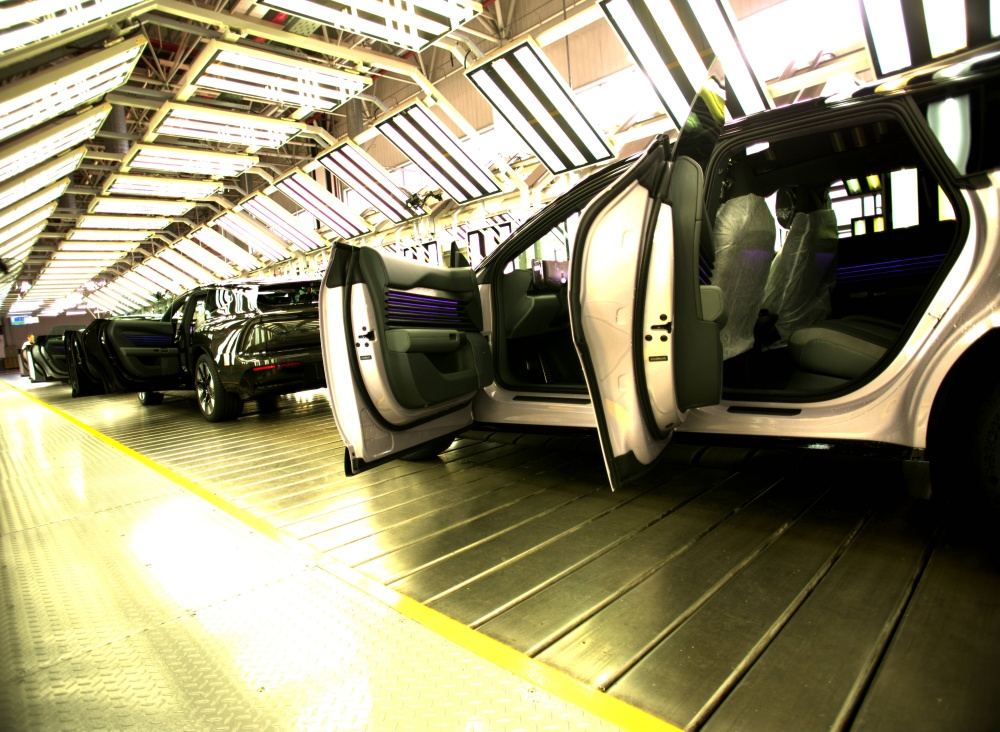armrest_color: (374, 331, 479, 355)
panel_color: (375, 280, 474, 326)
